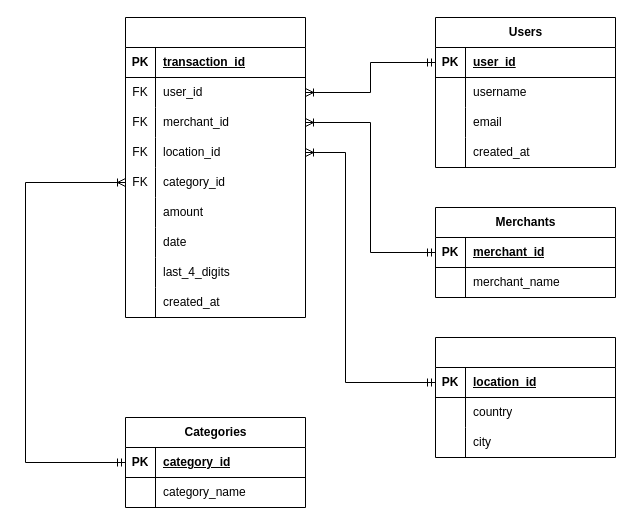
Some shapes in this 633 by 525 pixel diagram are drawn without their labels. The box of each missing label's shape, as (x1, y1, x2, y2) in pixels:
locations: (434, 336, 616, 458)
Transactions: (124, 16, 306, 318)
